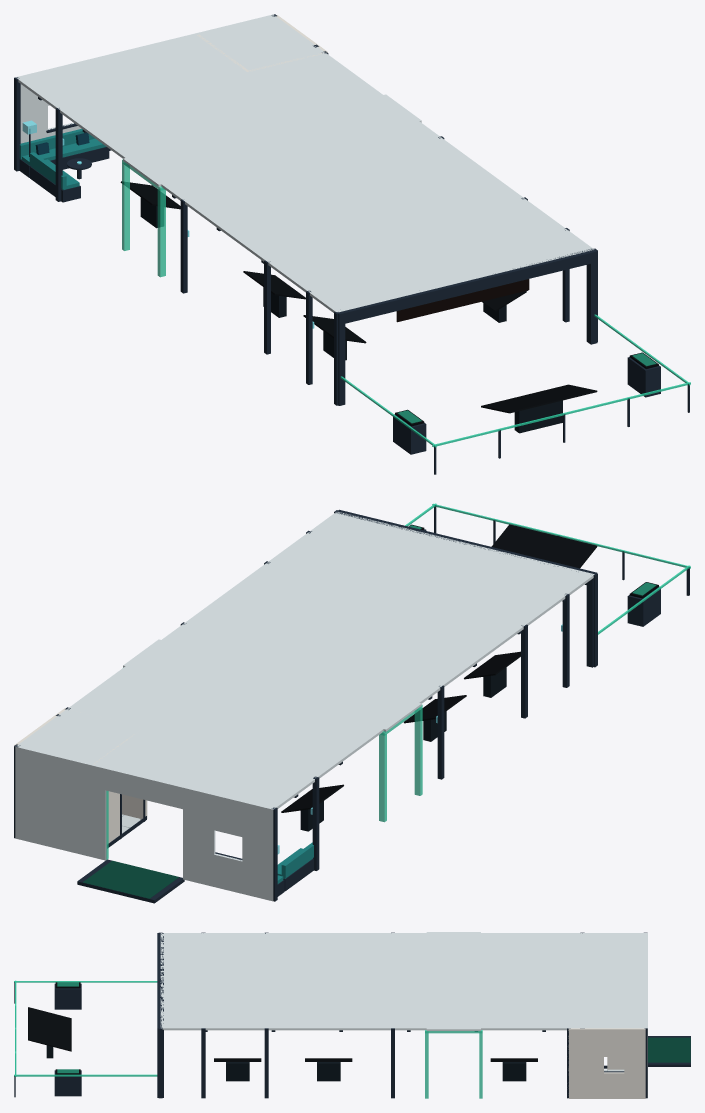
File: skyfleet_bake_05.glb
The picture shows the model from 3 angles, top to bottom: view 1: azimuth 30°, elevation 25°; view 2: azimuth 150°, elevation 25°; view 3: azimuth 270°, elevation 25°; orthographic projection. The views are drawn at different scales.
Parts seen in each view (by area): view 1: baked; view 2: baked; view 3: baked.
Boxes of the visible parts, left/top/right/bottom form: baked: left=14, top=14, right=690, bottom=474; baked: left=14, top=503, right=690, bottom=903; baked: left=14, top=932, right=690, bottom=1098.
Bounding box in the file's own units: 10.2 × 3.52 × 30.01.
